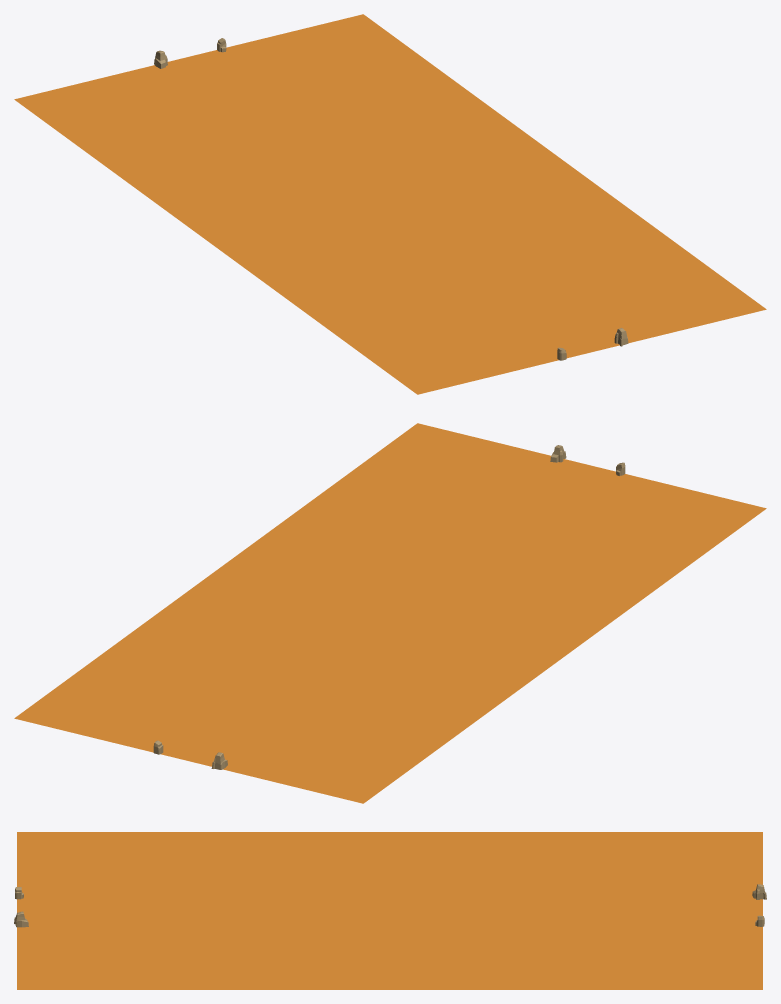
File: Block_100.gltf
3 renders of one model, top to bottom at view 1: azimuth 30°, elevation 25°; view 2: azimuth 150°, elevation 25°; view 3: azimuth 270°, elevation 25°, orthographic. The views are drawn at different scales.
Parts seen in each view (by area): view 1: Block_100-col; view 2: Block_100-col; view 3: Block_100-col.
Boxes of the visible parts, bbox=[...] form: Block_100-col: bbox=[14, 14, 766, 394]; Block_100-col: bbox=[14, 423, 766, 803]; Block_100-col: bbox=[14, 832, 766, 989].
Bounding box in the file's own units: 50 × 1.89 × 101.
